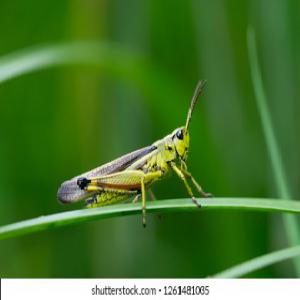locust: (43, 110, 214, 252)
